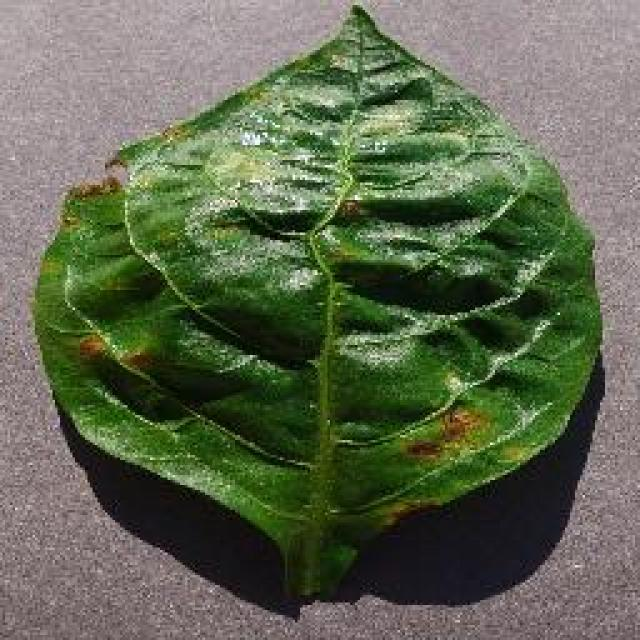Chilli_Bacterial_Spot: (30, 0, 605, 602), (395, 400, 493, 468), (65, 172, 123, 202), (435, 405, 475, 443), (115, 345, 157, 375), (400, 435, 442, 463), (72, 330, 108, 362), (332, 192, 370, 222), (438, 368, 468, 400)
